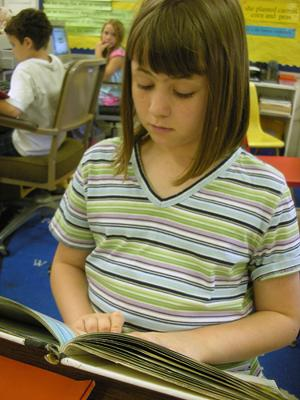person: (49, 2, 300, 400)
